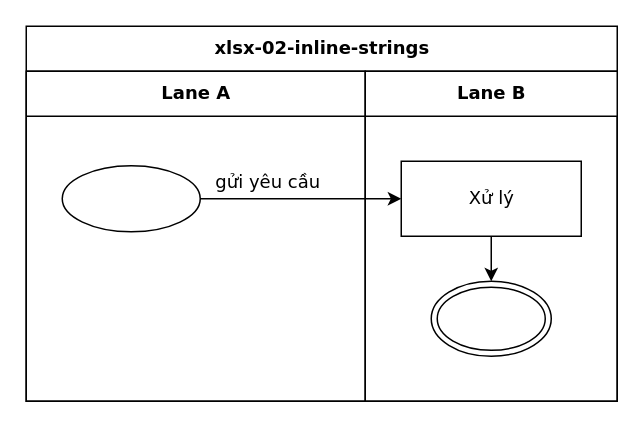
Image size: 644x428. Some labels were removed from this diagram. The shapes that lost their labels are listed below. From the top down, each one's centre as x and y in pixels, then its label:
point (130, 198): Bắt đầu
point (490, 318): Xong
